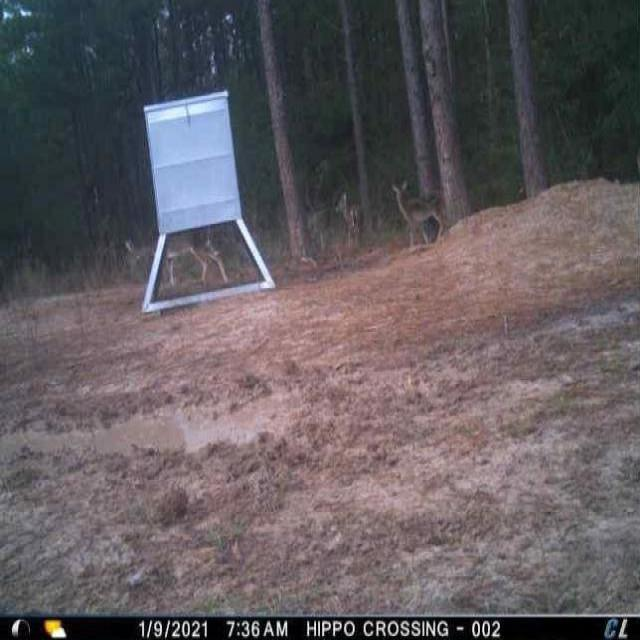deer: (389, 177, 446, 251), (167, 228, 231, 288), (333, 188, 368, 255), (121, 233, 155, 282)
